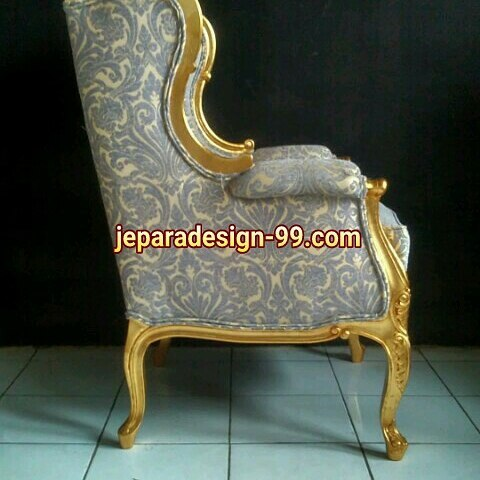Carving Chair: (65, 13, 431, 467)
